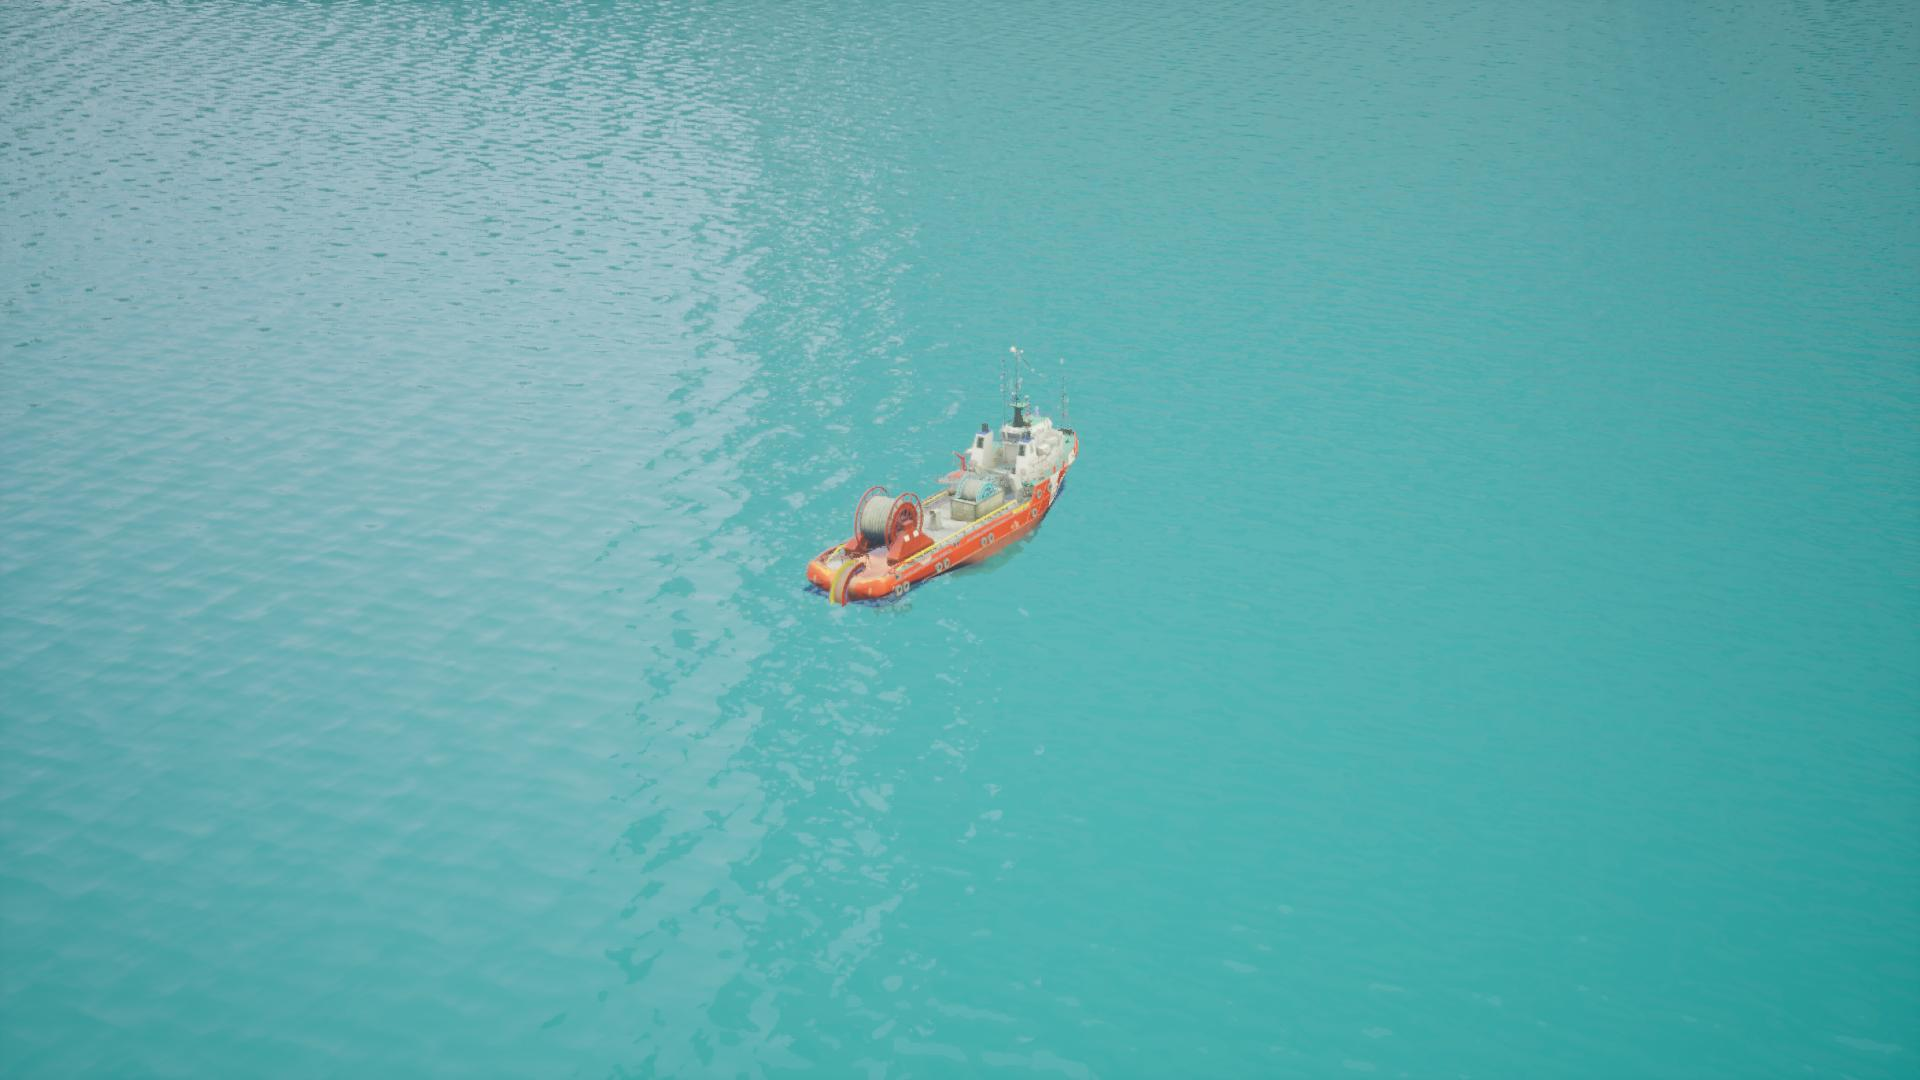Tug Boat: (873, 353, 1071, 601)
